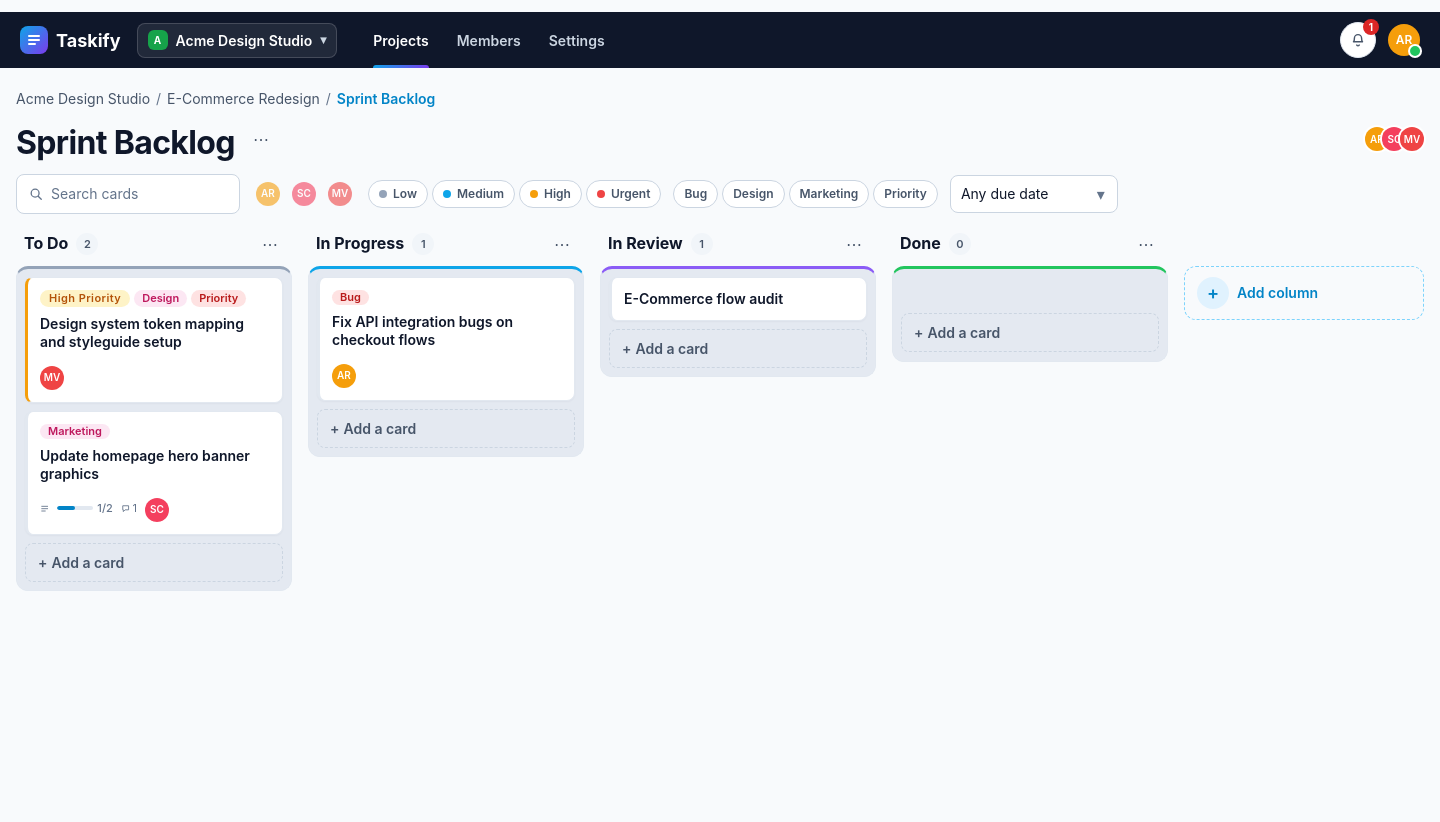
it: board filters › toggles a priority filter
Expected: the button "Bug Fix API integration bugs on checkout flows AR" is shown, left=317, top=277, right=575, bottom=401
Click the button "Urgent". click: (624, 194)
box: left=586, top=180, right=661, bottom=208
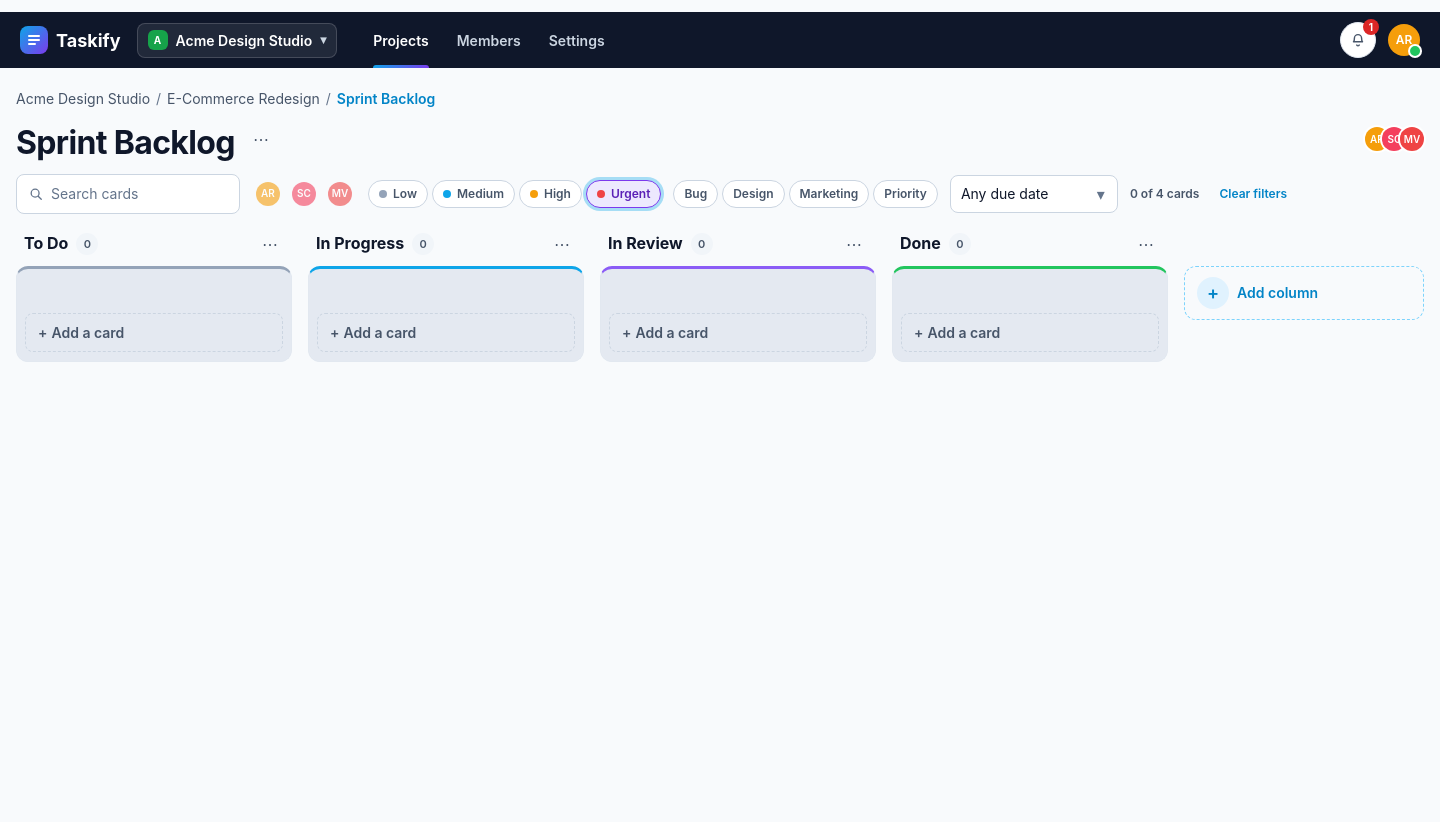
Now the text "0 of 4 cards" is shown, box left=1130, top=185, right=1200, bottom=203
